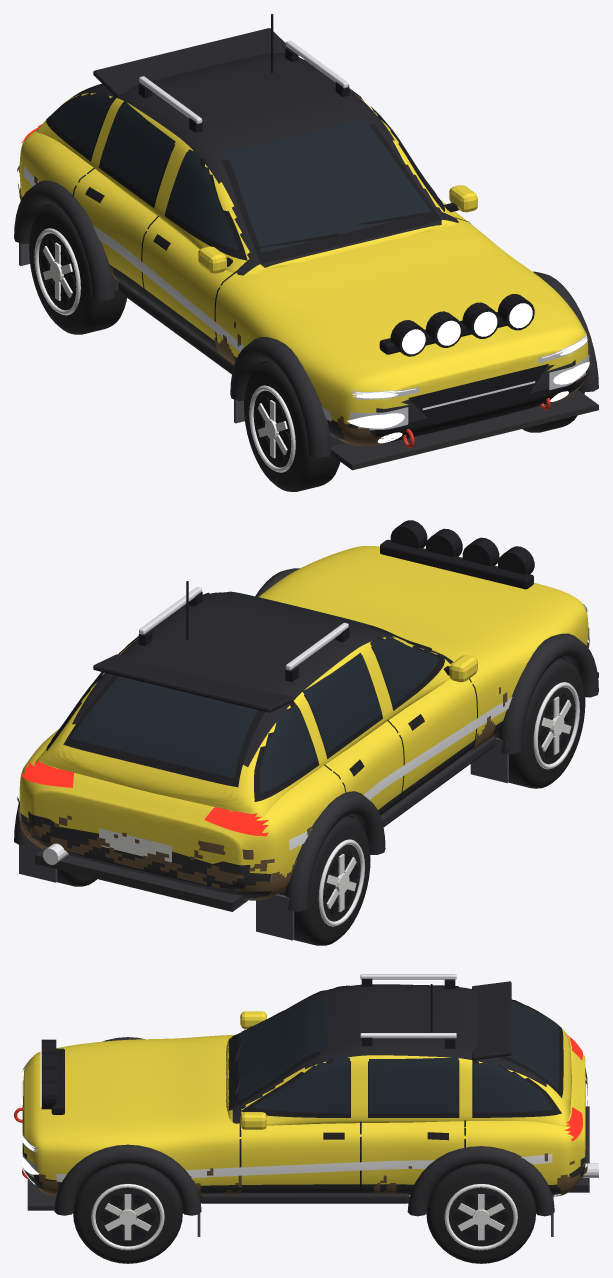
Rendered from car_crossover.glb.
The picture shows the model from 3 angles, top to bottom: view 1: azimuth 30°, elevation 25°; view 2: azimuth 150°, elevation 25°; view 3: azimuth 270°, elevation 25°; orthographic projection. The views are drawn at different scales.
Visible parts, largest first — view 1: Body, WheelFR, WheelRR; view 2: Body, WheelFR, WheelRR; view 3: Body, WheelFL, WheelRL.
Part boxes in pixels (x1,y1,x2,y2): Body: [14, 14, 598, 470]; WheelFR: [244, 361, 340, 491]; WheelRR: [29, 204, 126, 334]; Body: [14, 520, 598, 940]; WheelFR: [508, 658, 585, 788]; WheelRR: [294, 815, 370, 945]; Body: [14, 974, 598, 1236]; WheelFL: [73, 1163, 182, 1263]; WheelRL: [426, 1164, 535, 1263].
Size of the model in its own units: 2.07 by 2 by 4.37.
